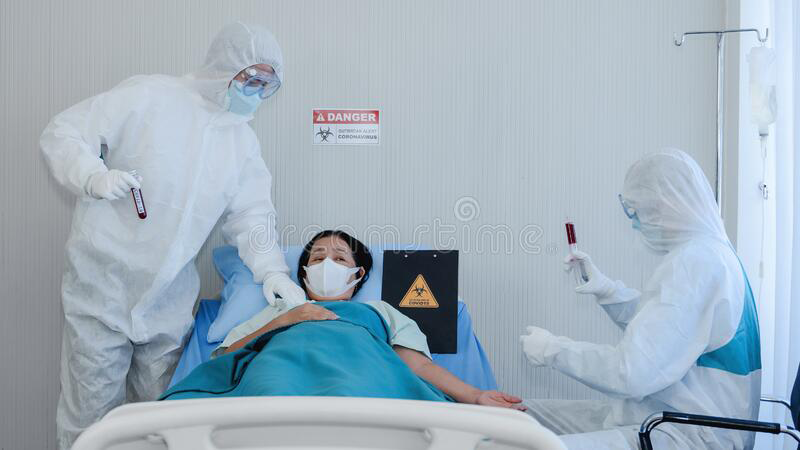Coverall: (41, 21, 285, 403), (549, 145, 759, 447)
Gloves: (563, 252, 617, 295), (521, 325, 567, 369), (84, 170, 142, 203), (263, 272, 306, 308)
Goggles: (241, 65, 279, 99), (617, 195, 647, 220)
with_mask: (304, 255, 359, 297), (228, 80, 261, 116), (630, 222, 654, 249)
